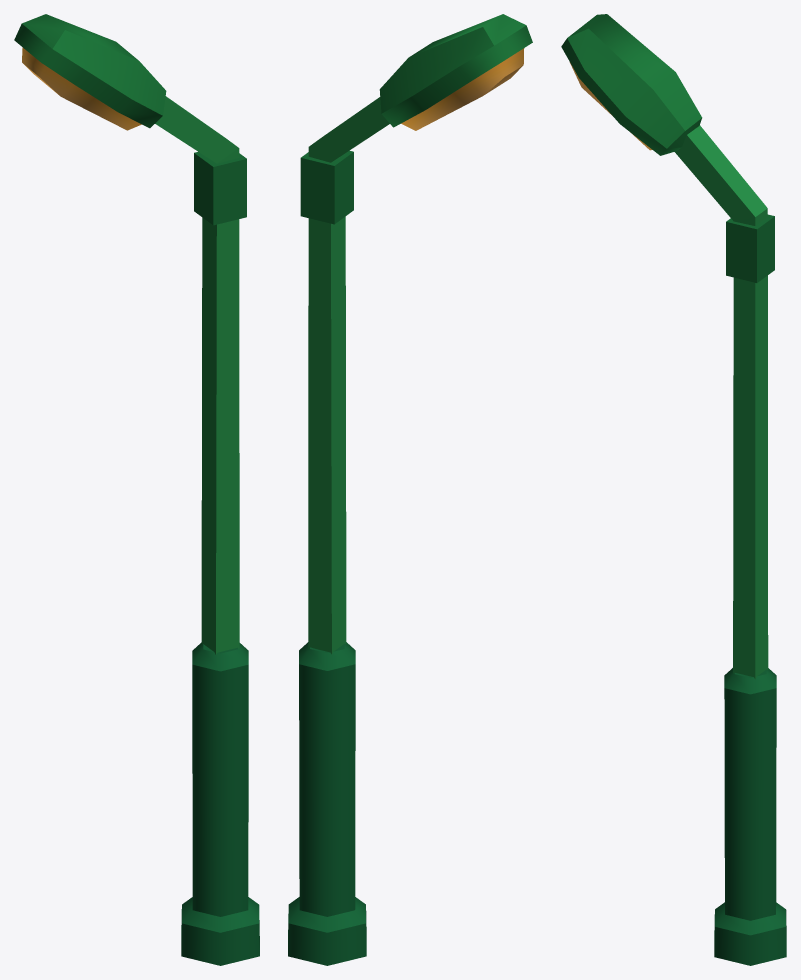
The model's file is Lamp_Court_1_G.fbx.
3 views of the same model, side by side, from view 1: azimuth 30°, elevation 25°; view 2: azimuth 150°, elevation 25°; view 3: azimuth 330°, elevation 25° (orthographic). The views are drawn at different scales.
Visible parts, largest first — view 1: Lamp_Court_1_G; view 2: Lamp_Court_1_G; view 3: Lamp_Court_1_G.
Part boxes in pixels (x1,y1,x2,y2): Lamp_Court_1_G: [14, 14, 259, 965]; Lamp_Court_1_G: [288, 14, 532, 965]; Lamp_Court_1_G: [561, 14, 786, 965].
Size of the model in its own units: 163 by 648 by 58.67.
